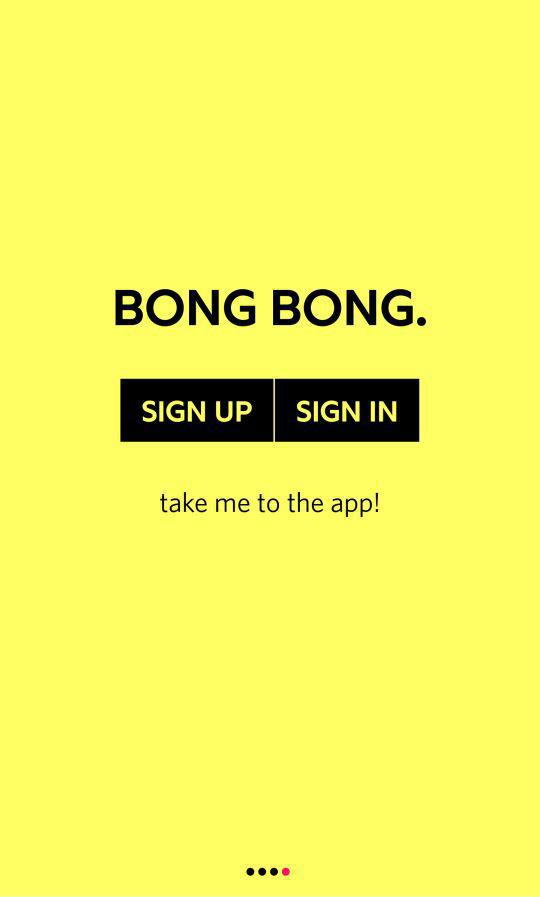PageIndicator: (246, 867, 291, 877)
Text: (115, 289, 427, 328), (160, 492, 379, 518)
TextButton: (121, 379, 274, 443), (275, 379, 420, 443)
